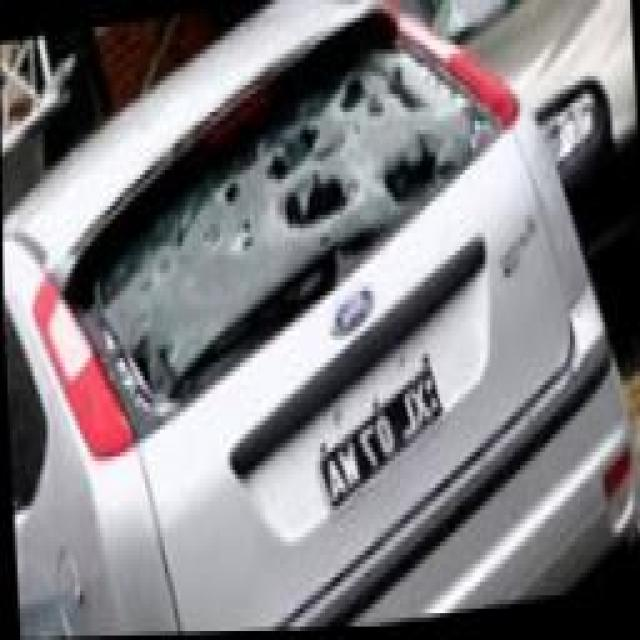Windshield: (70, 13, 508, 418)
